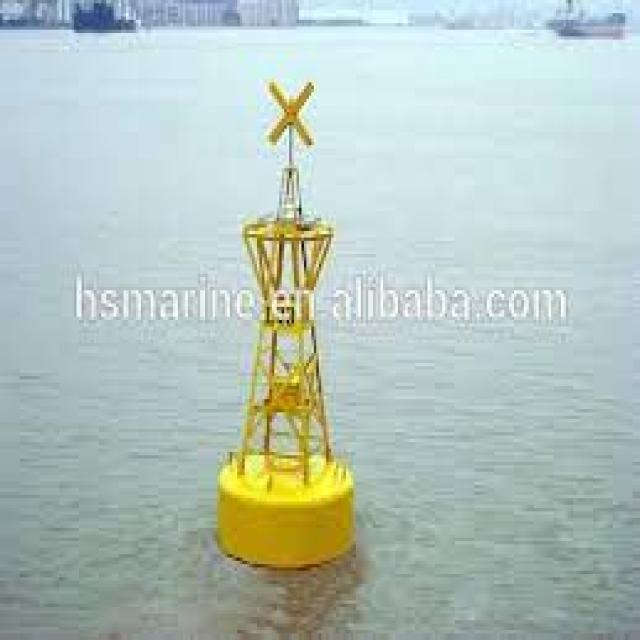buoy: (211, 57, 367, 590)
